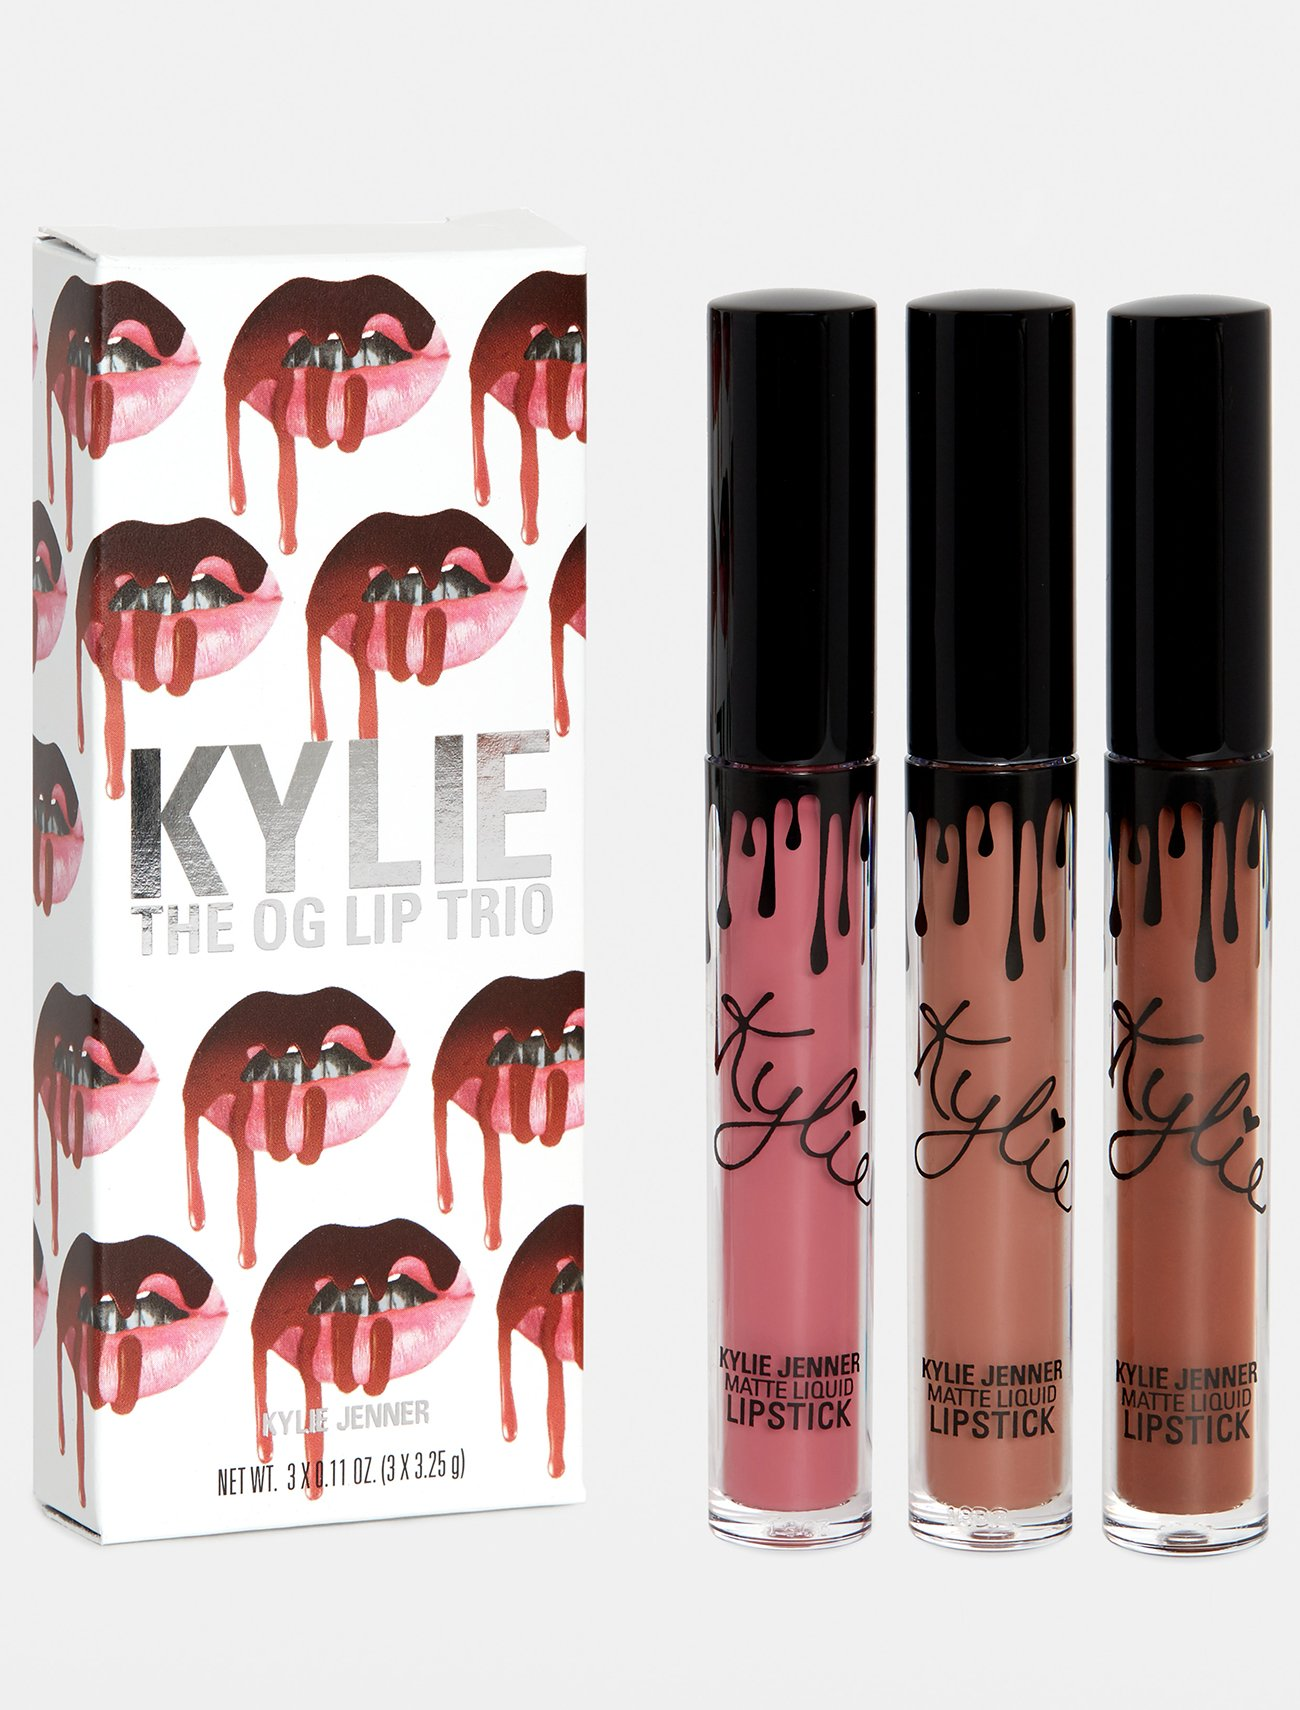Nonrec_Other: (690, 238, 1280, 1573)
Rec_Paper: (18, 204, 624, 1542)
